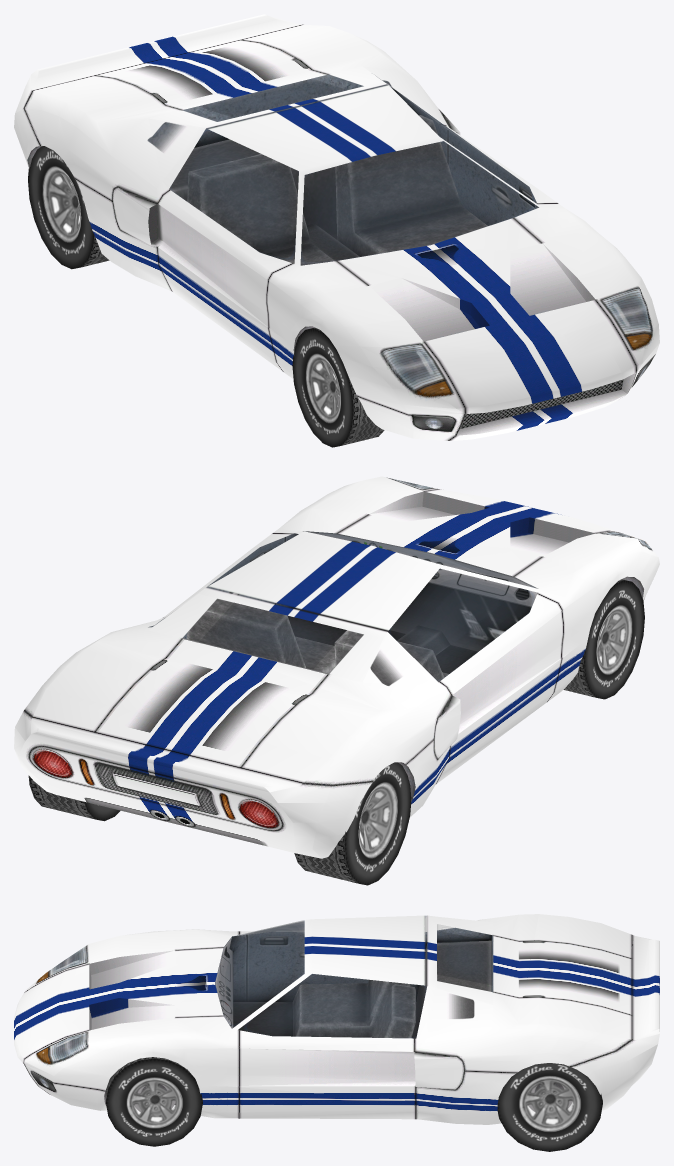
Rendered from gt40_ece7341fd9e3.glb.
3 views of the same model, one above another, from view 1: azimuth 30°, elevation 25°; view 2: azimuth 150°, elevation 25°; view 3: azimuth 270°, elevation 25° (orthographic). The views are drawn at different scales.
Parts seen in each view (by area): view 1: BODY, INTERIOR, WHEEL_0, WHEEL_2; view 2: BODY, INTERIOR, WHEEL_2, WHEEL_0, WHEEL_3; view 3: BODY, INTERIOR, WHEEL_3, WHEEL_1.
Boxes of the visible parts, <box> form: BODY: <box>14,14,659,440</box>; INTERIOR: <box>147,74,538,265</box>; WHEEL_0: <box>292,327,384,447</box>; WHEEL_2: <box>28,146,109,269</box>; BODY: <box>14,476,659,858</box>; INTERIOR: <box>148,531,538,685</box>; WHEEL_2: <box>294,762,411,885</box>; WHEEL_0: <box>563,579,644,699</box>; WHEEL_3: <box>28,775,120,821</box>; BODY: <box>14,914,659,1124</box>; INTERIOR: <box>215,928,493,1038</box>; WHEEL_3: <box>497,1063,602,1151</box>; WHEEL_1: <box>106,1057,202,1146</box>.
Size of the model in its own units: 2.08 by 1.1 by 4.41.
21 materials, 21 textured.
